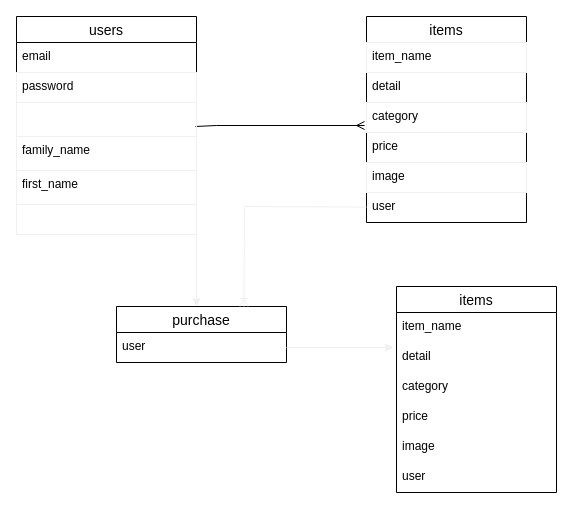
Some shapes in this 573 by 509 pixel diagram are drawn without their labels. Each missing label, with the centre of its shape:
birth: [106,219]
nickname: [106,119]
